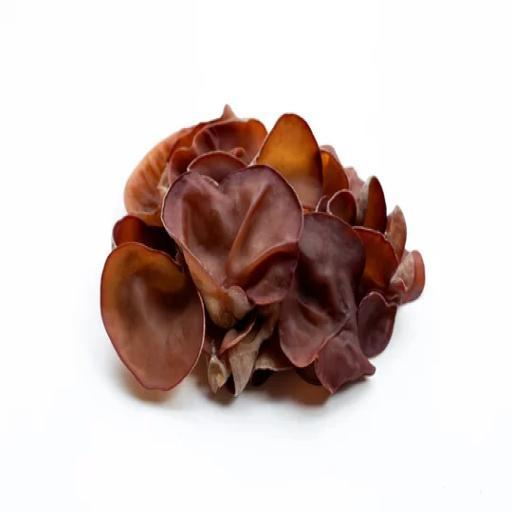mushroom: (96, 104, 441, 429)
